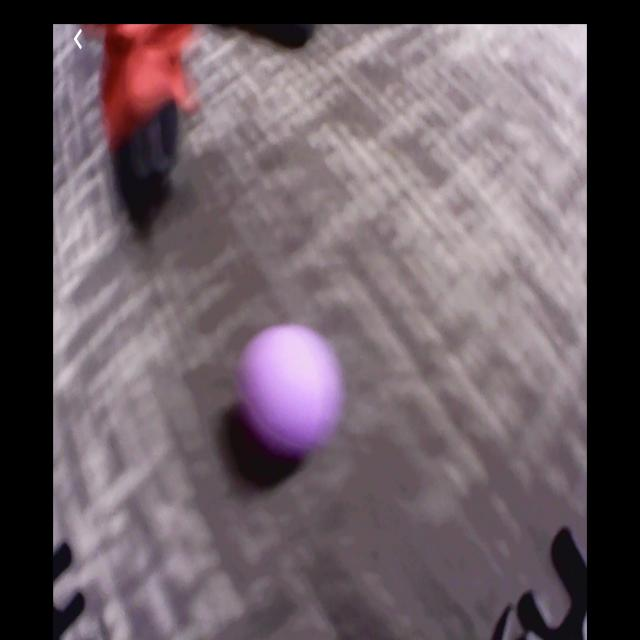ball: (242, 323, 345, 463)
